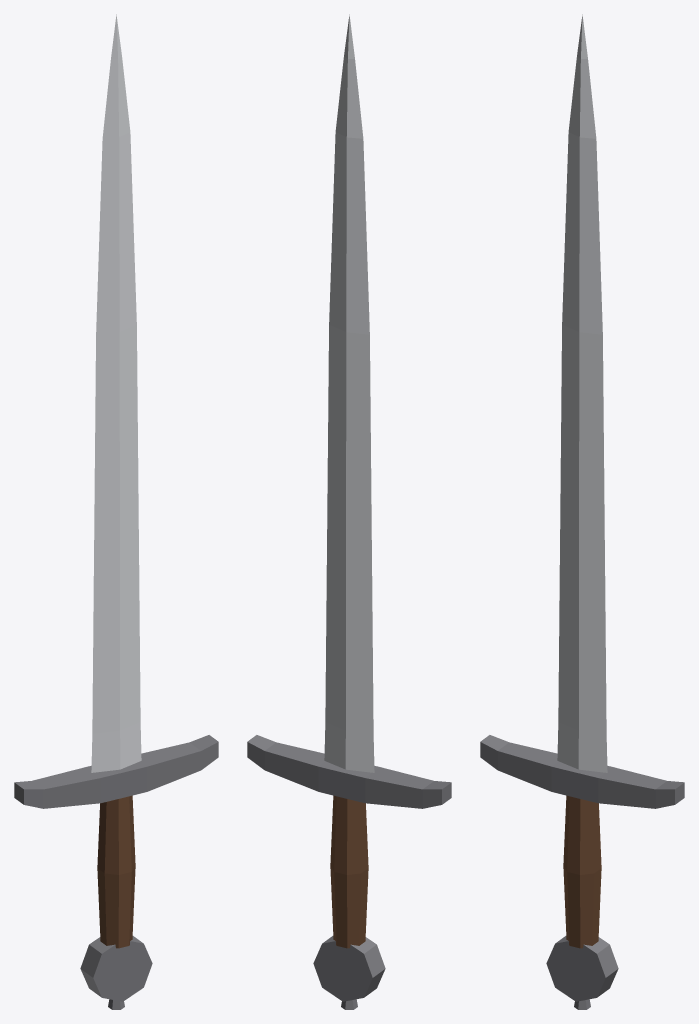
The model's file is medieval_sword.glb.
3 renders of one model, left to right at view 1: azimuth 30°, elevation 25°; view 2: azimuth 150°, elevation 25°; view 3: azimuth 330°, elevation 25°, orthographic.
Visible parts, largest first — view 1: Blade, Guard, Grip, Pommel; view 2: Blade, Guard, Grip, Pommel; view 3: Blade, Guard, Grip, Pommel.
Part boxes in pixels (x1=…): Blade: x1=91, y1=14, x2=141, y2=772; Guard: x1=14, y1=735, x2=218, y2=808; Grip: x1=97, y1=795, x2=135, y2=948; Pommel: x1=80, y1=936, x2=152, y2=1009; Blade: x1=324, y1=14, x2=374, y2=772; Guard: x1=247, y1=735, x2=451, y2=808; Grip: x1=330, y1=795, x2=368, y2=948; Pommel: x1=313, y1=936, x2=385, y2=1009; Blade: x1=557, y1=14, x2=607, y2=772; Guard: x1=480, y1=735, x2=684, y2=808; Grip: x1=563, y1=795, x2=601, y2=948; Pommel: x1=546, y1=936, x2=618, y2=1009.
Size of the model in its own units: 0.21 by 1.02 by 0.0333.
Materials: 3 (3 with a texture image).
